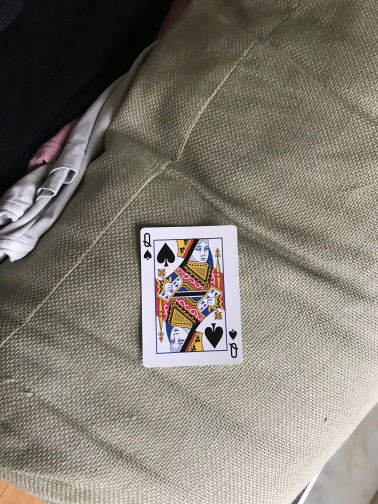queen: (138, 224, 245, 371)
